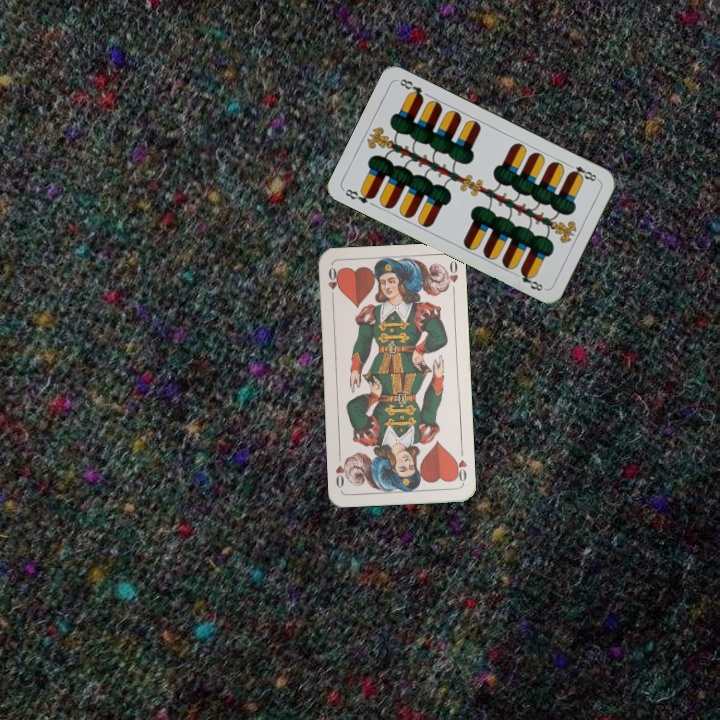E8: (563, 159, 601, 184), (341, 184, 377, 206)
HO: (450, 445, 469, 486), (324, 263, 341, 303)
